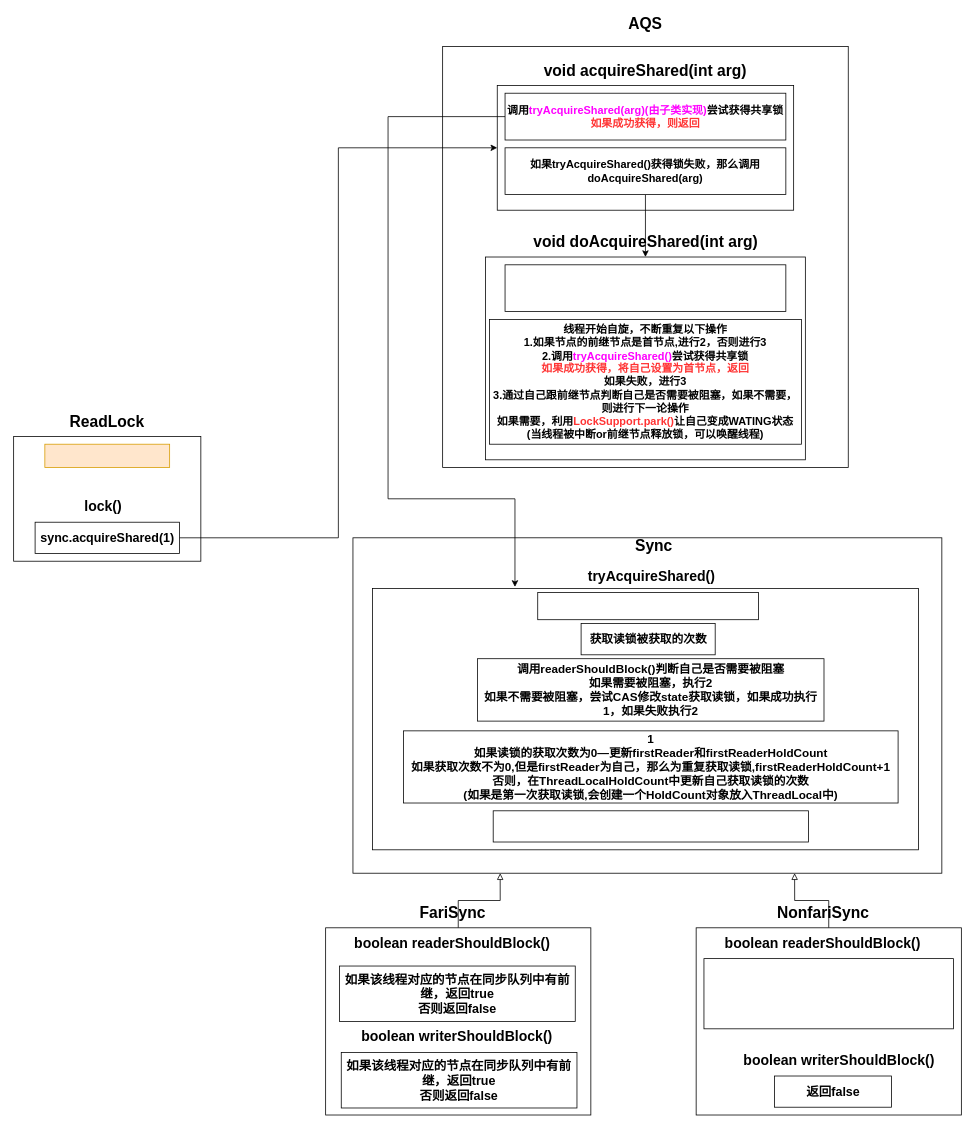
The diagram is 975 pixels wide and 1129 high, and some of its shapes have lost their labels. The shapes that lost their labels are listed below. From the top down, each one's box as (x1, y1, x2, y2) in pixels, then its label:
(504, 264, 786, 312): 将当前线程封装为Node,放入同步队列
(44, 443, 170, 468): Sync sync
(537, 592, 759, 620): 如果写锁被其他线程获取，返回
(492, 810, 808, 842): 2 调用fullTryAcquireShared()进行完整版的读锁获取
(703, 958, 954, 1029): 如果同步队列中首节点和第二个节点存在,且第二个节点的状态不是SHARED，返回true 否则返回false
